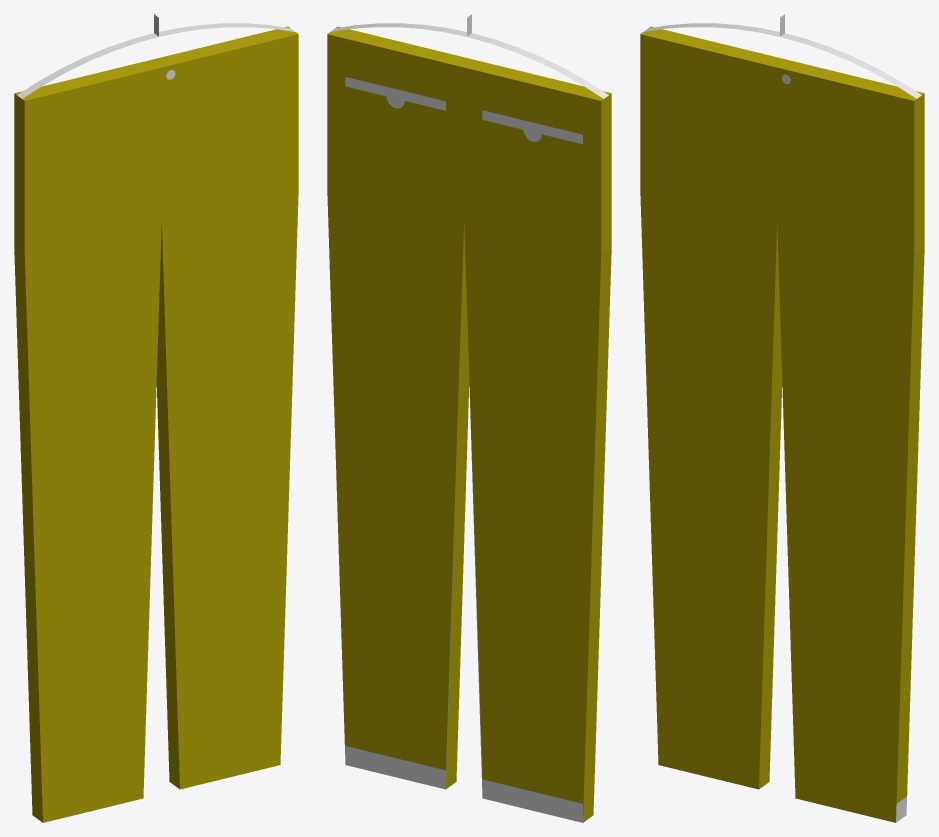
File: pants-yellow.dae
The picture shows the model from 3 angles, left to right: view 1: azimuth 30°, elevation 25°; view 2: azimuth 150°, elevation 25°; view 3: azimuth 330°, elevation 25°; orthographic projection.
Visible parts, largest first — view 1: group_0_002, group_0_016, group_0_005, group_0_001; view 2: group_0_006, group_0_005, group_0_002, group_0_016, group_0_019, group_0_015, group_0_001; view 3: group_0_002, group_0_016, group_0_005, group_0_006, group_0_013, group_0_001.
Part boxes in pixels (<box>): group_0_002: <box>14,87,161,822</box>; group_0_016: <box>156,53,298,789</box>; group_0_005: <box>14,26,298,219</box>; group_0_001: <box>17,23,295,98</box>; group_0_006: <box>327,53,601,816</box>; group_0_005: <box>327,26,611,119</box>; group_0_002: <box>583,113,611,822</box>; group_0_016: <box>446,222,469,789</box>; group_0_019: <box>482,779,582,822</box>; group_0_015: <box>345,746,445,789</box>; group_0_001: <box>330,23,608,98</box>; group_0_002: <box>640,53,777,789</box>; group_0_016: <box>777,91,914,822</box>; group_0_005: <box>640,26,924,219</box>; group_0_006: <box>896,113,924,803</box>; group_0_013: <box>759,222,782,789</box>; group_0_001: <box>643,23,921,98</box>.
Bounding box in the file's own units: 0.381 × 0.0254 × 1.03.
